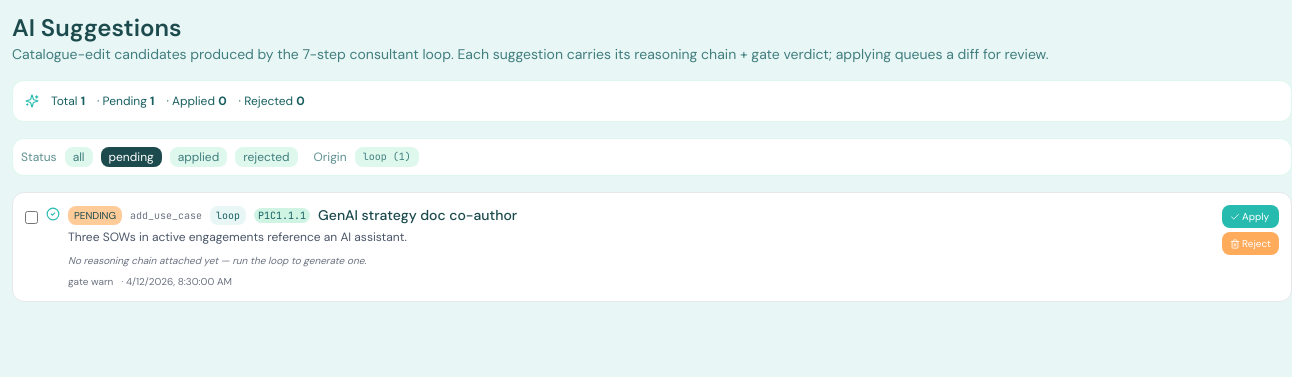
it: AiSuggestions › bulk-selects pending rows and surfaces the toolbar
Step 1. Click the checkbox named "select suggestion sug-chain-x-0" → (32,218), box [25, 211, 38, 224]
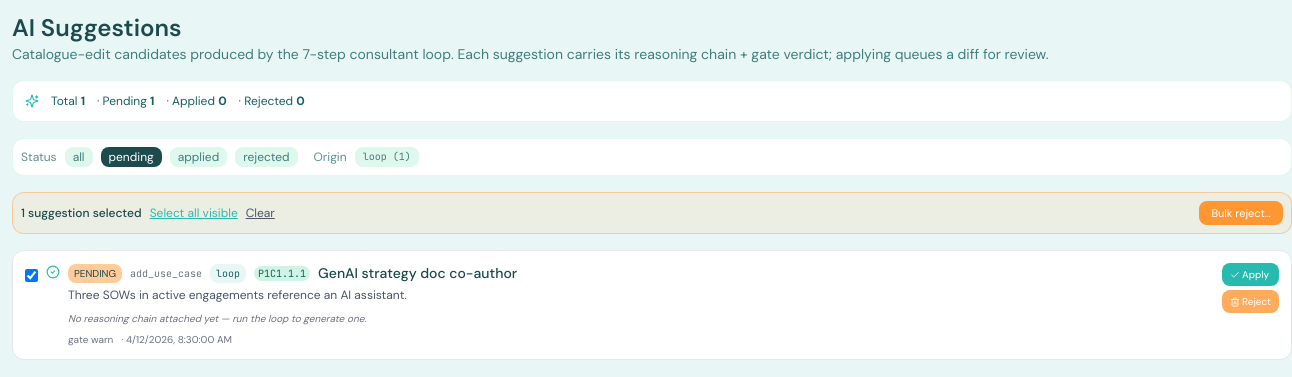
Now the text "1 suggestion selected" is shown, box [21, 205, 142, 221]
Now the button "Bulk reject…" is shown, box [1199, 201, 1283, 225]
